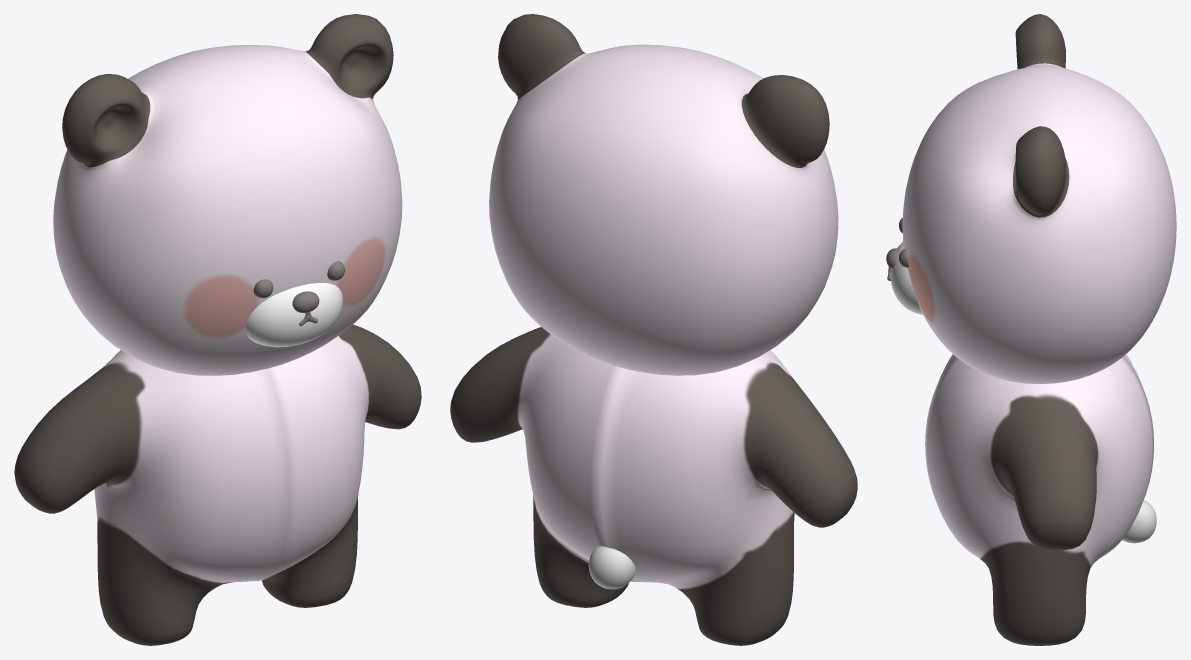
The model's file is bare.gltf.
3 views of the same model, side by side, from view 1: azimuth 30°, elevation 25°; view 2: azimuth 150°, elevation 25°; view 3: azimuth 270°, elevation 25° (orthographic). The views are drawn at different scales.
Visible parts, largest first — view 1: 頭, 体, 顔, 目; view 2: 頭, 体, 尻尾; view 3: 頭, 体, 顔, 尻尾.
Part boxes in pixels (x1,y1,x2,y2): 頭: (53, 14, 402, 375); 体: (14, 324, 421, 645); 顔: (245, 283, 342, 347); 目: (253, 261, 344, 298); 頭: (489, 14, 838, 375); 体: (450, 327, 857, 645); 尻尾: (588, 546, 635, 589); 頭: (902, 14, 1176, 383); 体: (925, 354, 1153, 645); 顔: (890, 241, 922, 314); 尻尾: (1122, 500, 1156, 543).
Bounding box in the file's own units: 1.97 × 2.71 × 1.36.
4 materials, 2 textured.
